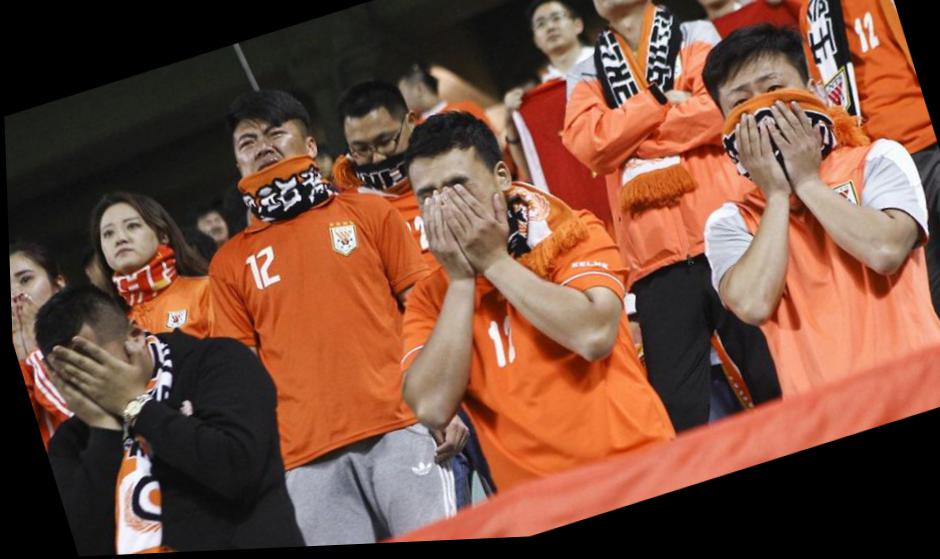NONE: (44, 305, 161, 421), (411, 164, 509, 262), (227, 122, 301, 197), (8, 253, 64, 333), (97, 209, 156, 270), (531, 11, 580, 66), (583, 1, 651, 27), (197, 211, 231, 247), (689, 1, 737, 15)
OK: (718, 65, 831, 179)
WRONG: (339, 111, 411, 192)
